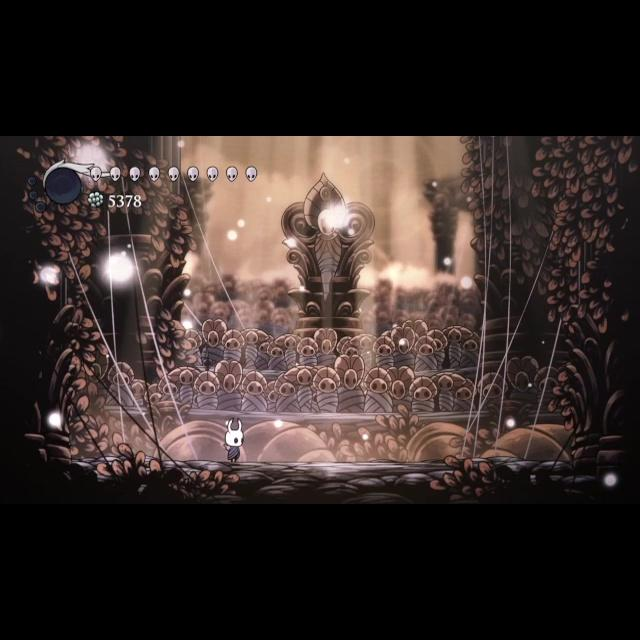Player: (220, 416, 248, 464)
